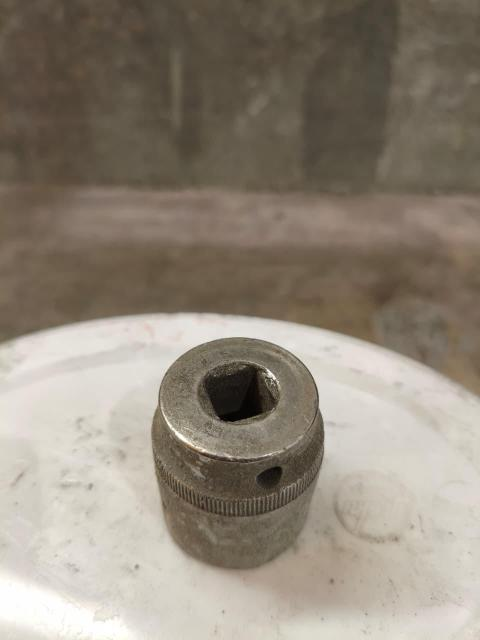Metal: (147, 335, 328, 575)
